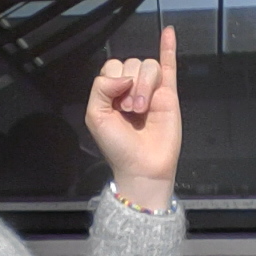I: (84, 22, 189, 173)
